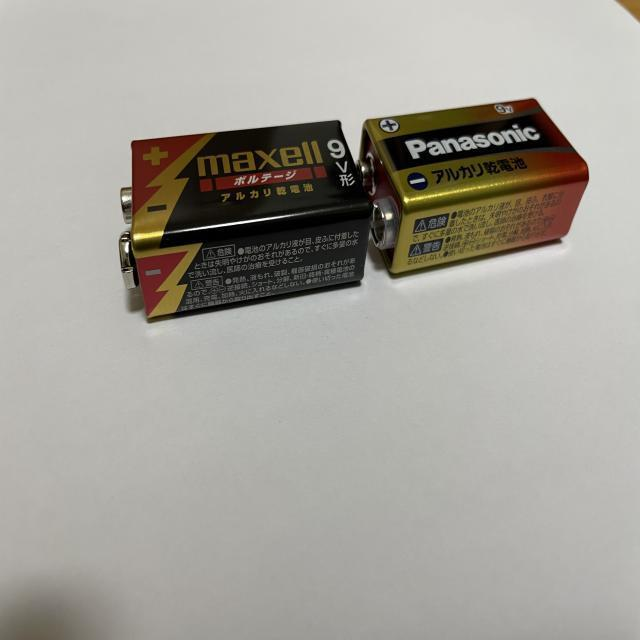9V: (119, 119, 371, 317), (356, 97, 591, 279)
